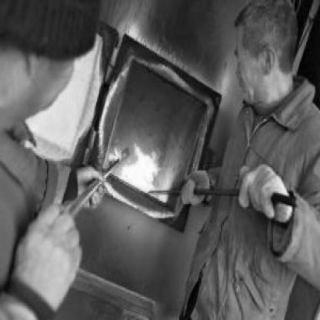Fire: (93, 69, 216, 207)
